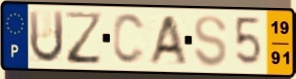5: (232, 16, 264, 69)
A: (145, 14, 189, 67)
C: (111, 12, 147, 67)
S: (192, 13, 229, 69)
U: (27, 9, 66, 65)
Z: (63, 10, 104, 66)
